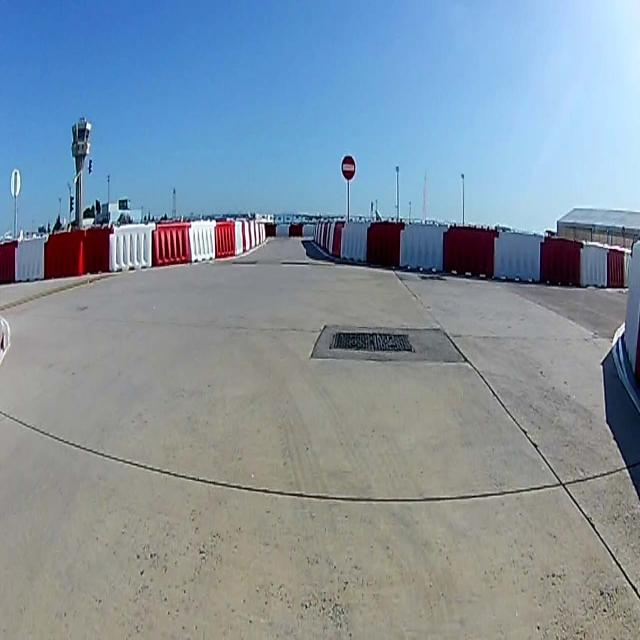girisyok: (340, 156, 356, 180)
